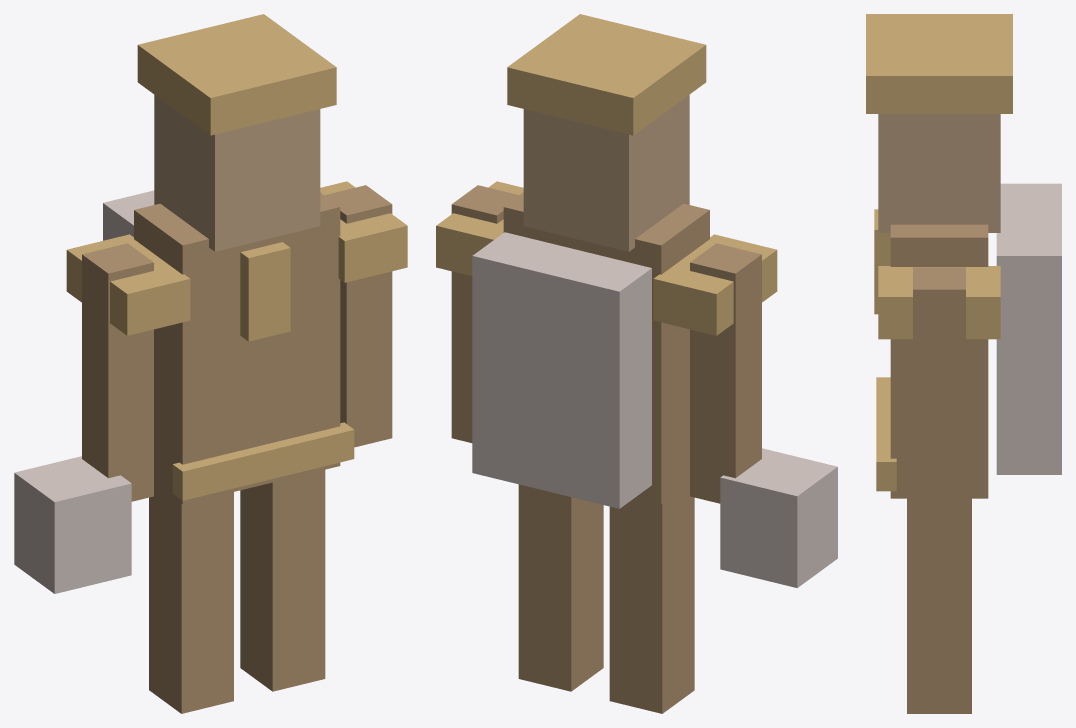
The model's file is 10_noor_glassroot_smith_under_smoke.glb.
3 views of the same model, side by side, from view 1: azimuth 30°, elevation 25°; view 2: azimuth 150°, elevation 25°; view 3: azimuth 270°, elevation 25° (orthographic).
Parts seen in each view (by area): view 1: Noor Glassroot, Smith under Smoke; view 2: Noor Glassroot, Smith under Smoke; view 3: Noor Glassroot, Smith under Smoke.
Boxes of the visible parts, <box> form: Noor Glassroot, Smith under Smoke: <box>14,14,407,713</box>; Noor Glassroot, Smith under Smoke: <box>436,14,837,713</box>; Noor Glassroot, Smith under Smoke: <box>866,14,1061,713</box>.
Bounding box in the file's own units: 0.9174 × 1.58 × 0.4425.
